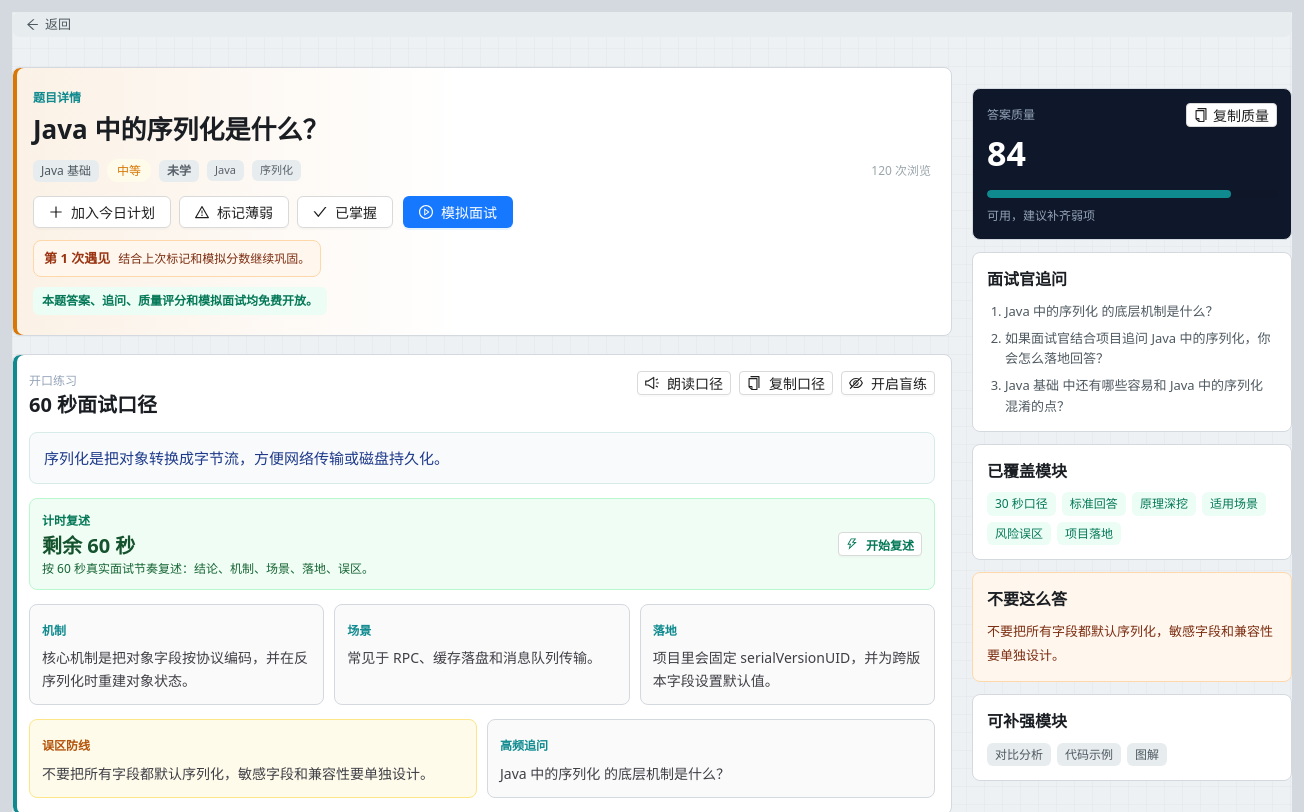
Test: QuestionDetail › runs a 60 second oral rehearsal timer and prompts self check after finishing
Expected: the text "剩余 60 秒" is shown, [42,532,135,559]
Click the button "开始复述".
click(880, 544)  # box [838,532,922,556]
Wait 60000 ms
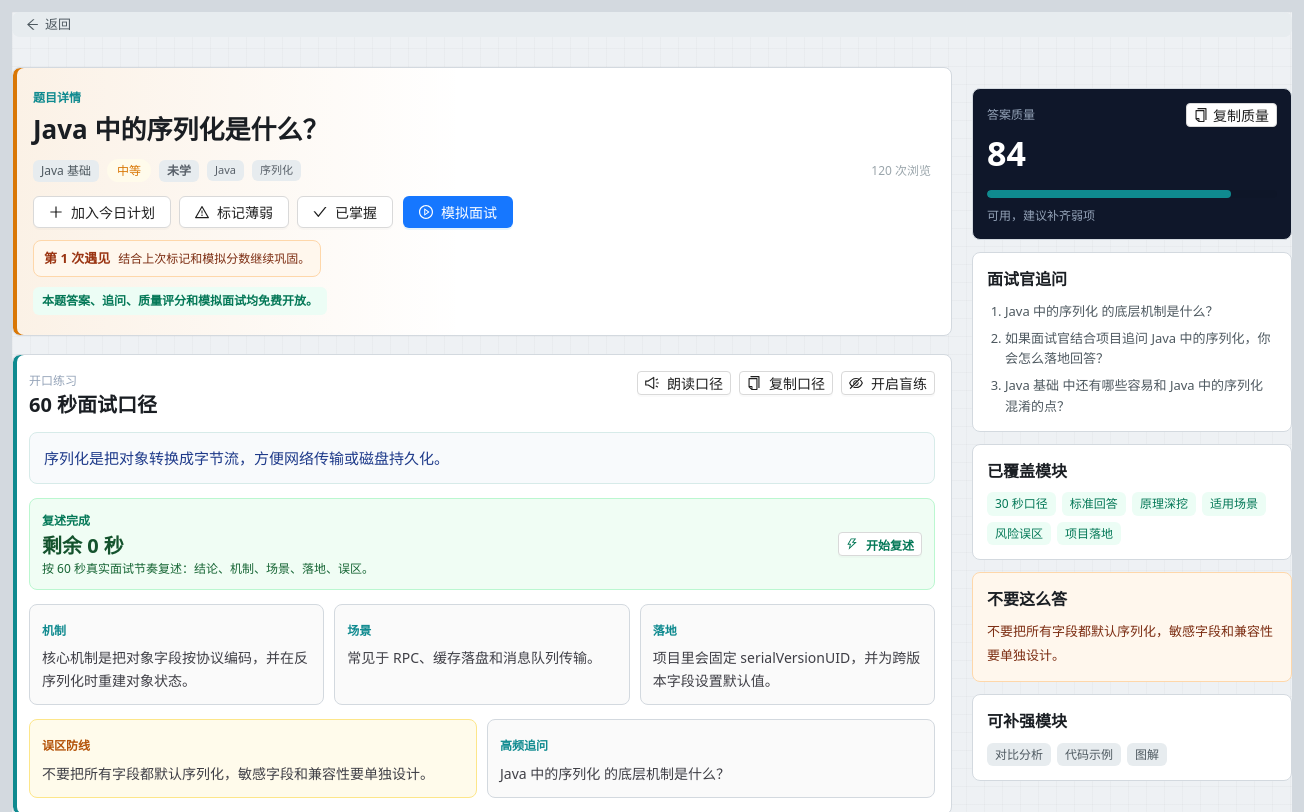
Expected: the text "剩余 59 秒" is shown, [42,532,124,559]
Expected: the text "复述完成" is shown, [42,512,90,529]
